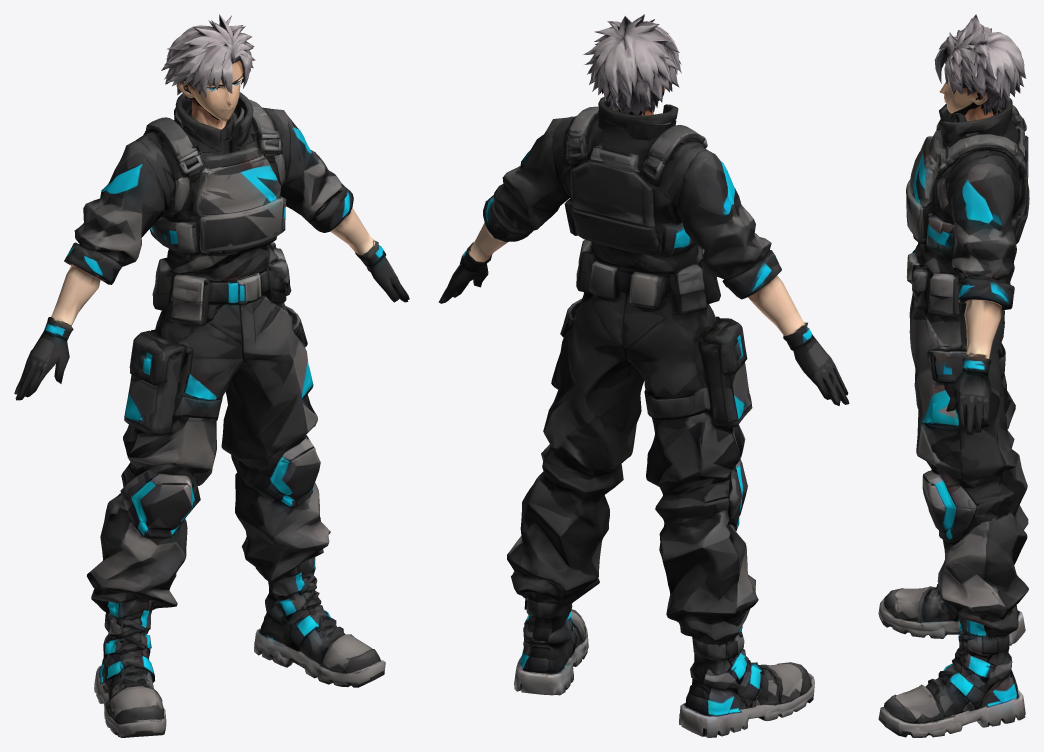
The model's file is thermite.fbx.
The picture shows the model from 3 angles, left to right: view 1: azimuth 30°, elevation 25°; view 2: azimuth 150°, elevation 25°; view 3: azimuth 270°, elevation 25°; orthographic projection. The views are drawn at different scales.
Visible parts, largest first — view 1: tripo_part_1.002, tripo_part_0.003, tripo_part_3.001, tripo_part_8, tripo_part_5.001, thermite_Head, tripo_part_4.003, tripo_part_2.003, tripo_part_6; view 2: tripo_part_1.002, tripo_part_3.001, tripo_part_0.003, tripo_part_8, tripo_part_2.003, tripo_part_4.003, thermite_Head, tripo_part_5.001, tripo_part_6; view 3: tripo_part_3.001, tripo_part_4.003, tripo_part_0.003, tripo_part_5.001, thermite_Head, tripo_part_2.003, tripo_part_1.002.
Boxes of the visible parts, bbox=[...] form: tripo_part_1.002: bbox=[87, 304, 243, 612]; tripo_part_0.003: bbox=[143, 92, 291, 326]; tripo_part_3.001: bbox=[221, 294, 330, 583]; tripo_part_8: bbox=[14, 134, 174, 400]; tripo_part_5.001: bbox=[254, 557, 385, 687]; thermite_Head: bbox=[161, 14, 255, 140]; tripo_part_4.003: bbox=[262, 107, 409, 302]; tripo_part_2.003: bbox=[94, 600, 166, 737]; tripo_part_6: bbox=[172, 348, 222, 421]; tripo_part_1.002: bbox=[623, 294, 758, 646]; tripo_part_3.001: bbox=[507, 291, 644, 606]; tripo_part_0.003: bbox=[560, 97, 720, 316]; tripo_part_8: bbox=[667, 145, 849, 405]; tripo_part_2.003: bbox=[679, 626, 814, 737]; tripo_part_4.003: bbox=[438, 116, 574, 303]; thermite_Head: bbox=[583, 14, 681, 140]; tripo_part_5.001: bbox=[514, 592, 588, 695]; tripo_part_6: bbox=[644, 317, 719, 419]; tripo_part_3.001: bbox=[909, 290, 1028, 638]; tripo_part_4.003: bbox=[946, 156, 1018, 434]; tripo_part_0.003: bbox=[906, 98, 1029, 318]; tripo_part_5.001: bbox=[878, 614, 1025, 737]; thermite_Head: bbox=[934, 14, 1026, 135]; tripo_part_2.003: bbox=[878, 584, 1025, 645]; tripo_part_1.002: bbox=[998, 310, 1028, 529].
Size of the model in its own units: 0.6019 by 0.9695 by 0.2022.
Materials: 9 (9 with a texture image).
